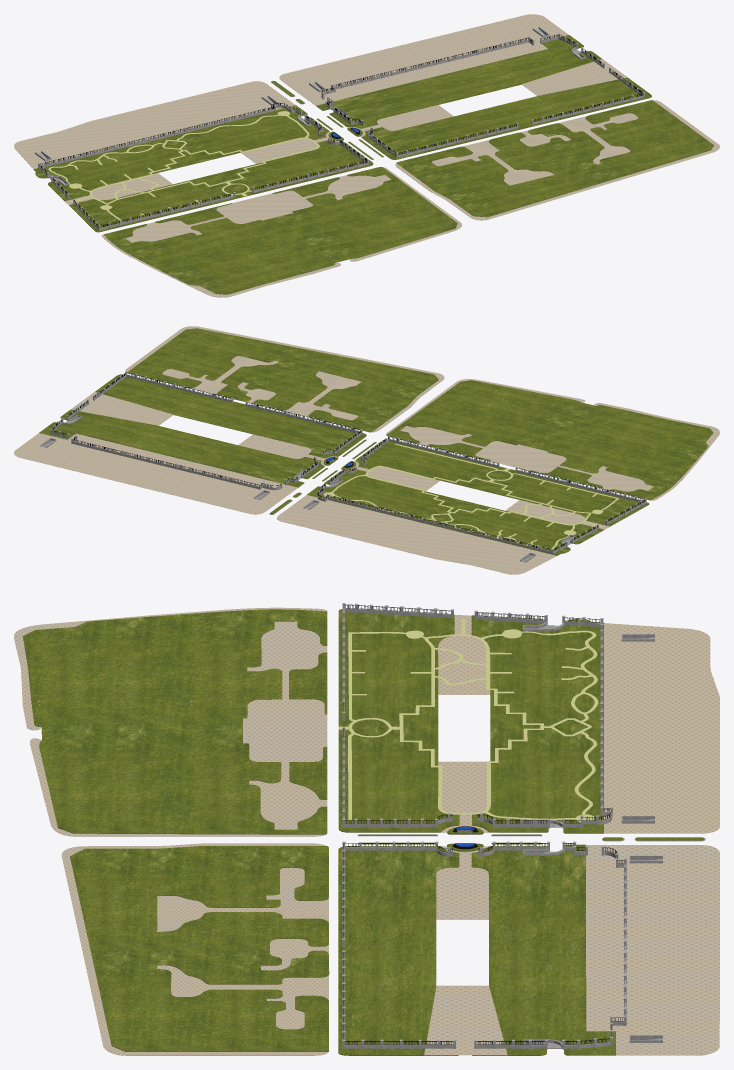
The model's file is 2_3_floor.FBX.
3 renders of one model, top to bottom at view 1: azimuth 30°, elevation 25°; view 2: azimuth 150°, elevation 25°; view 3: azimuth 270°, elevation 25°, orthographic. The views are drawn at different scales.
Visible parts, largest first — view 1: 3_grass1, 3_grass2, 2_grass1, 2_grass2, 2_floor2, 3_floor2, 3_floor1, 2_floor1, Line002; view 2: 3_grass1, 2_grass1, 3_grass2, 2_grass2, 2_floor2, 3_floor2, 3_floor1, 2_floor1, Line002; view 3: 3_grass1, 2_grass1, 3_grass2, 2_grass2, 2_floor2, 3_floor2, 3_floor1, 2_floor1, Line002.
Boxes of the visible parts, left/top/right/bottom form: 3_grass1: left=104, top=167, right=457, bottom=294; 3_grass2: left=33, top=105, right=373, bottom=232; 2_grass1: left=396, top=100, right=713, bottom=217; 2_grass2: left=316, top=35, right=651, bottom=159; 2_floor2: left=279, top=14, right=627, bottom=139; 3_floor2: left=14, top=81, right=370, bottom=230; 3_floor1: left=101, top=167, right=461, bottom=297; 2_floor1: left=395, top=100, right=719, bottom=220; Line002: left=48, top=111, right=319, bottom=222; 3_grass1: left=386, top=380, right=713, bottom=500; 2_grass1: left=127, top=328, right=438, bottom=432; 3_grass2: left=307, top=439, right=649, bottom=555; 2_grass2: left=39, top=374, right=366, bottom=487; 2_floor2: left=14, top=392, right=338, bottom=514; 3_floor2: left=277, top=460, right=647, bottom=574; 3_floor1: left=386, top=379, right=719, bottom=500; 2_floor1: left=125, top=326, right=444, bottom=432; Line002: left=323, top=443, right=619, bottom=550; 3_grass1: left=23, top=609, right=327, bottom=834; 2_grass1: left=70, top=846, right=329, bottom=1051; 3_grass2: left=338, top=609, right=603, bottom=833; 2_grass2: left=338, top=844, right=615, bottom=1055; 2_floor2: left=424, top=845, right=719, bottom=1055; 3_floor2: left=343, top=615, right=719, bottom=833; 3_floor1: left=14, top=607, right=327, bottom=836; 2_floor1: left=61, top=843, right=328, bottom=1055; Line002: left=338, top=618, right=598, bottom=822.
Bounding box in the file's own units: 390 × 5.17 × 260.
